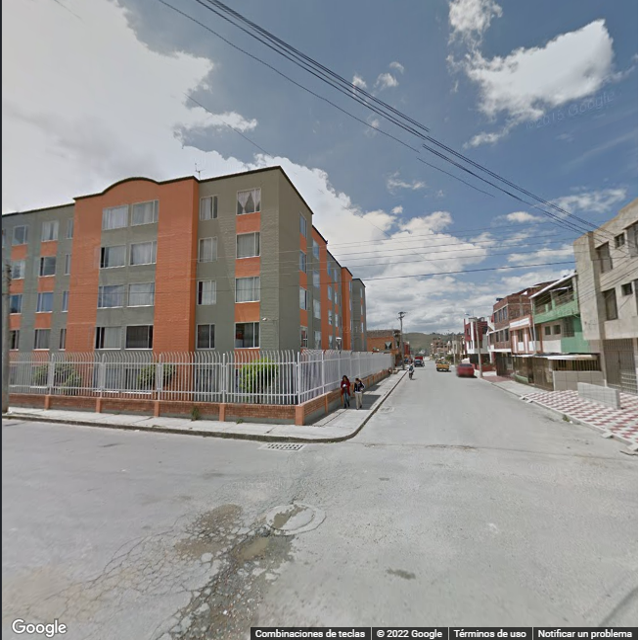D10: (22, 612, 58, 630)
D20: (69, 514, 233, 614)
D40: (236, 532, 277, 565)
